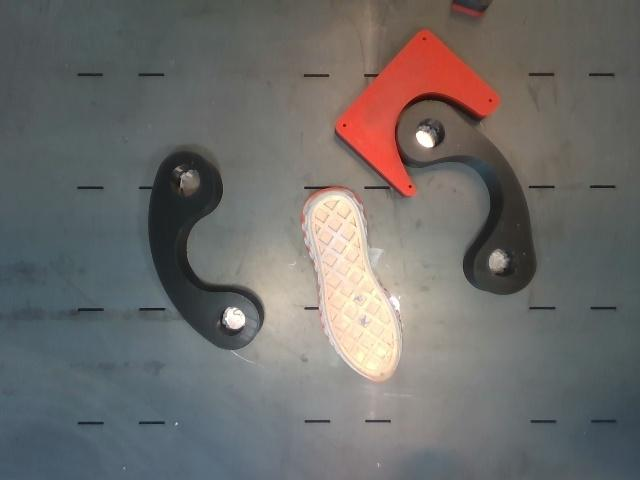shoes: (311, 195, 399, 381)
